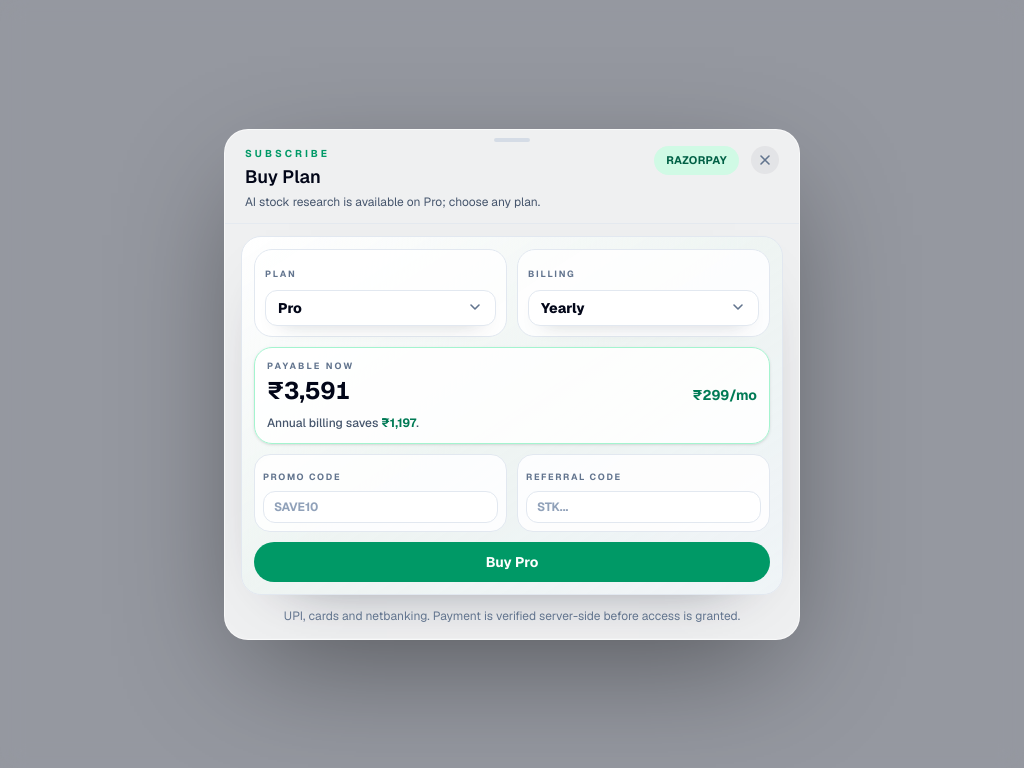
Test case: SubscribeModal › recalculates the payable card when plan and billing dropdowns change
Expected: the text "₹3,591" is shown, [267, 375, 354, 407]
Expected: the text "₹299/mo" is shown once, [692, 385, 757, 407]
Click the dropdown named "Billing cycle".
click(644, 307)  # box [528, 289, 759, 325]
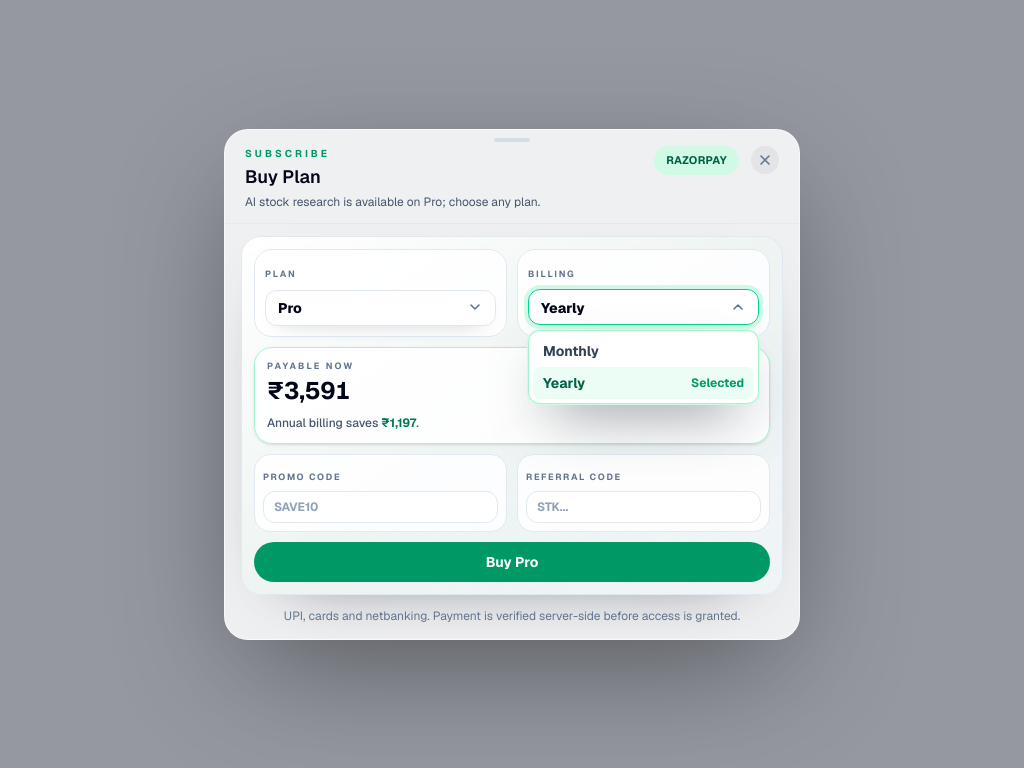
Click the option "Monthly".
click(644, 351)  # box [533, 335, 754, 367]
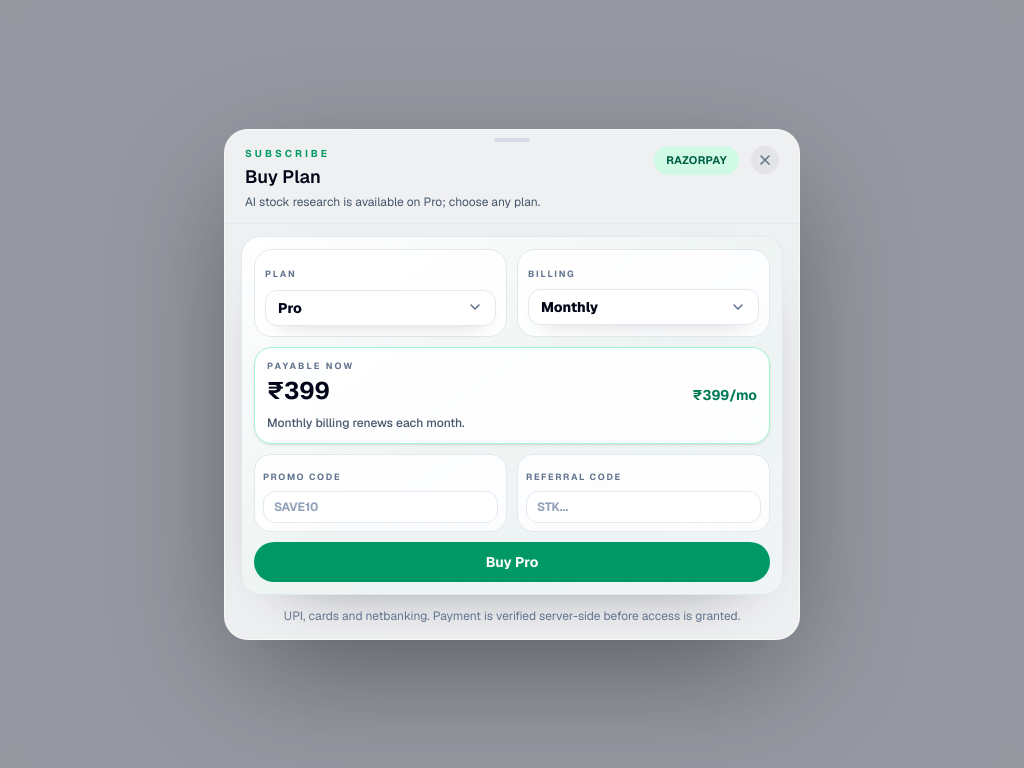
Result: the text "₹399" is shown at [267, 375, 330, 406]
Result: the text "Monthly billing renews each month." is shown at [267, 415, 465, 431]
Click the dropdown named "Subscription plan".
click(380, 307)  # box [265, 289, 496, 325]
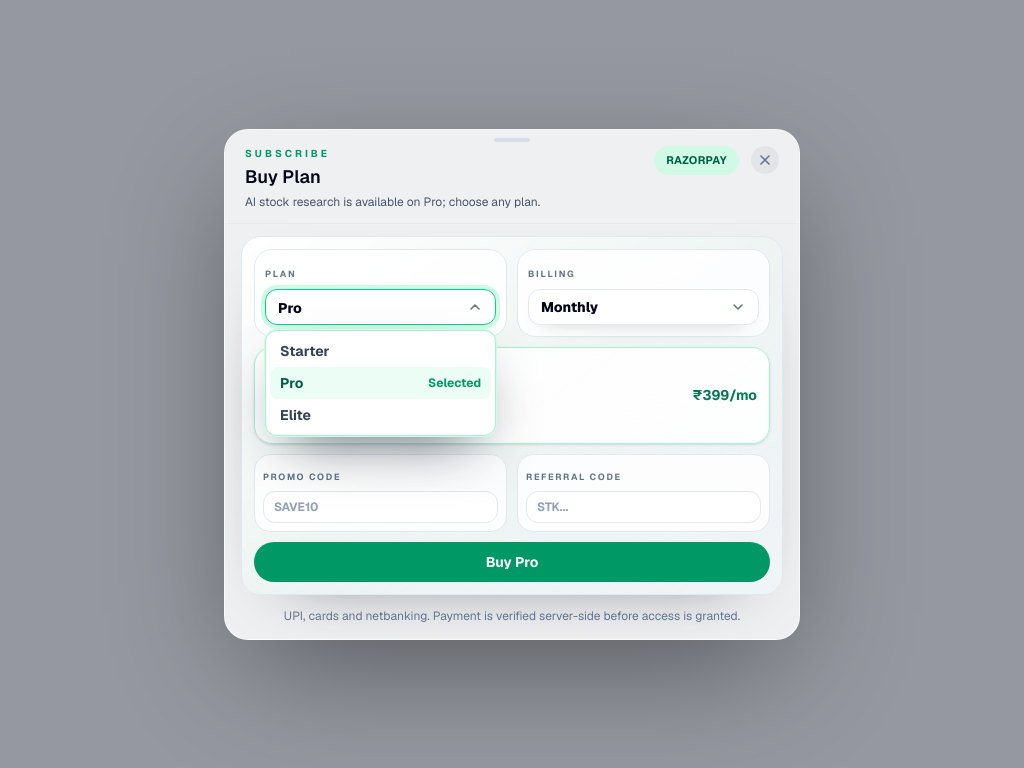
Click the option "Elite".
click(380, 415)  # box [270, 399, 491, 431]
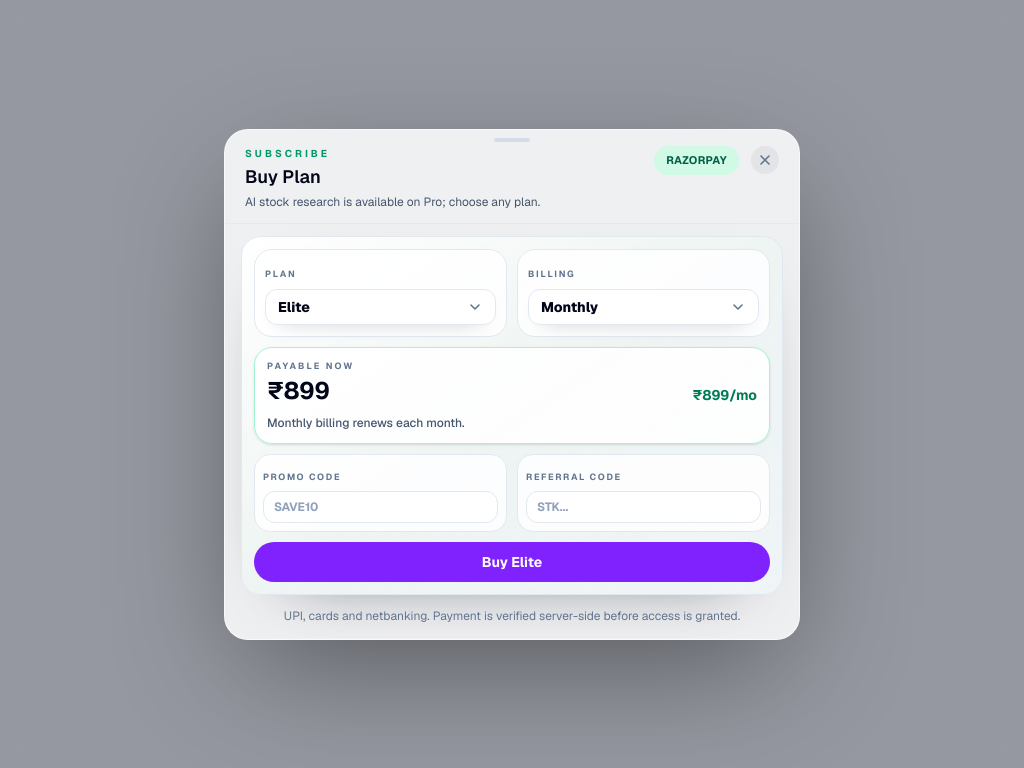
Result: the text "₹899" is shown at [267, 375, 330, 406]
Result: the button "Buy Elite" is shown at [254, 542, 770, 582]
